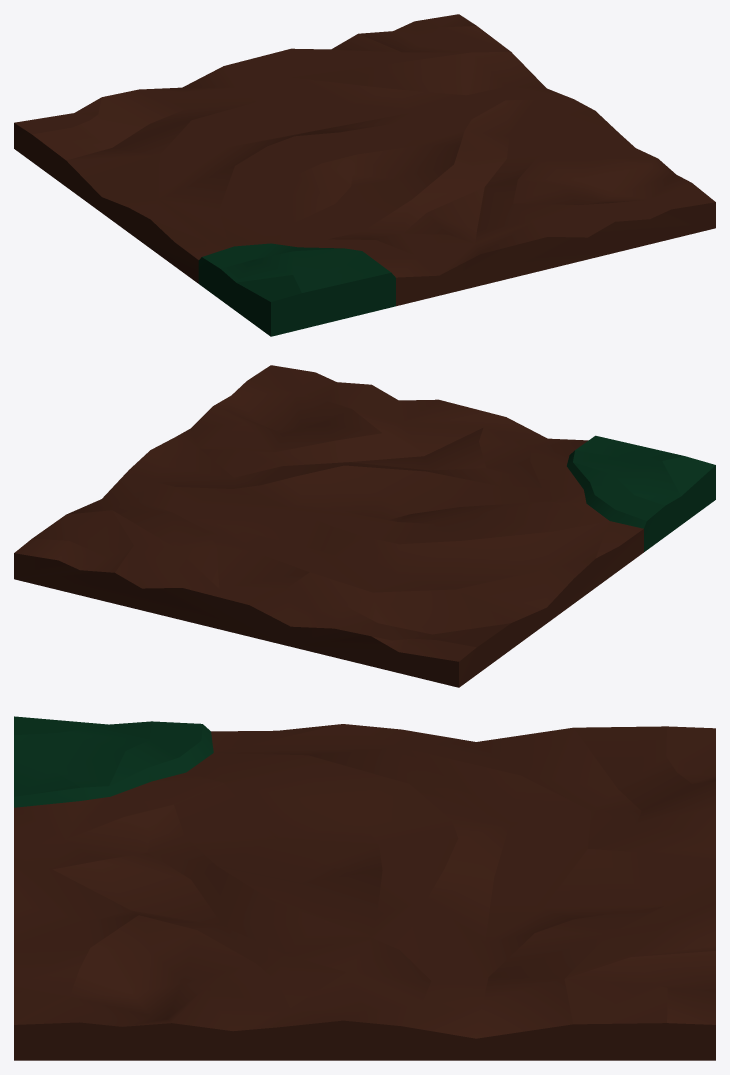
File: Ground_Corner_External_LB.fbx
The picture shows the model from 3 angles, top to bottom: view 1: azimuth 30°, elevation 25°; view 2: azimuth 150°, elevation 25°; view 3: azimuth 270°, elevation 25°; orthographic projection. The views are drawn at different scales.
Parts seen in each view (by area): view 1: Ground_Corner_External_LB; view 2: Ground_Corner_External_LB; view 3: Ground_Corner_External_LB.
Boxes of the visible parts, x1,y1,x2,y2 form: Ground_Corner_External_LB: (14, 14, 715, 336); Ground_Corner_External_LB: (14, 365, 715, 687); Ground_Corner_External_LB: (14, 716, 715, 1060).
Bounding box in the file's own units: 147 × 12.96 × 147.
